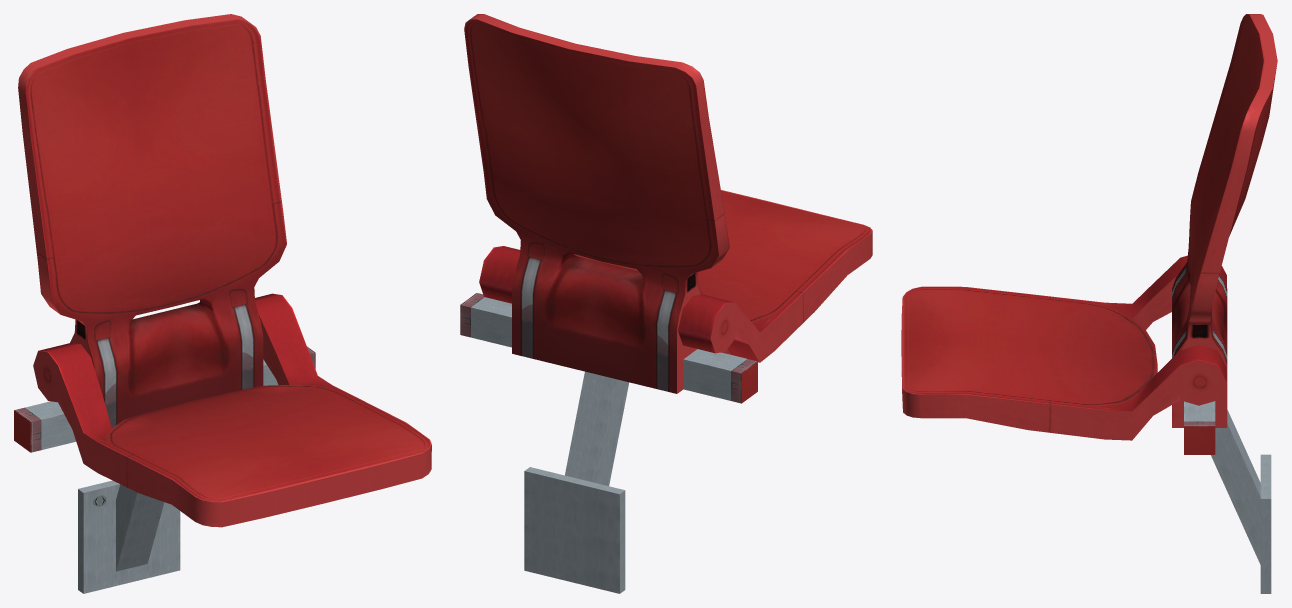
File: Seat.fbx
3 views of the same model, side by side, from view 1: azimuth 30°, elevation 25°; view 2: azimuth 150°, elevation 25°; view 3: azimuth 270°, elevation 25° (orthographic). The views are drawn at different scales.
Visible parts, largest first — view 1: Seat1, Seat2; view 2: Seat1, Seat2; view 3: Seat2, Seat1.
Boxes of the visible parts, x1,y1,x2,y2 form: Seat1: (14,14,315,593); Seat2: (33,293,431,527); Seat1: (460,14,757,593); Seat2: (479,190,872,362); Seat2: (901,255,1226,440); Seat1: (1172,14,1277,593).
Size of the model in its own units: 21.62 by 39.32 by 26.25.
Materials: 1 (1 with a texture image).
